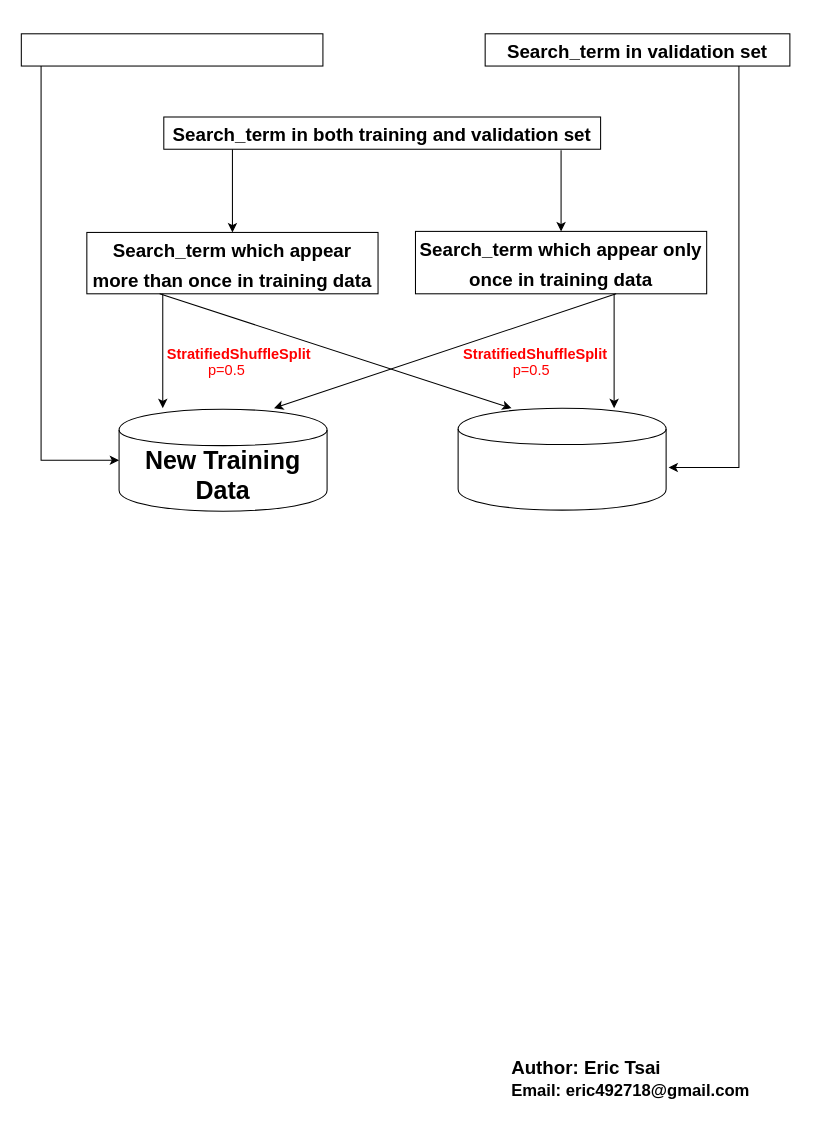
This 817x1133 diagram has some shape labels left out. Each missing label, with the box of its shape:
Search_term only in training set: (20, 33, 323, 66)
Validation Data: (457, 407, 666, 510)
